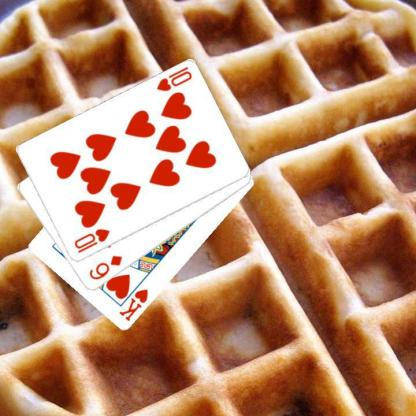10H: (71, 226, 111, 255), (154, 65, 194, 93)
6D: (86, 253, 124, 281)
KH: (116, 287, 150, 323)
